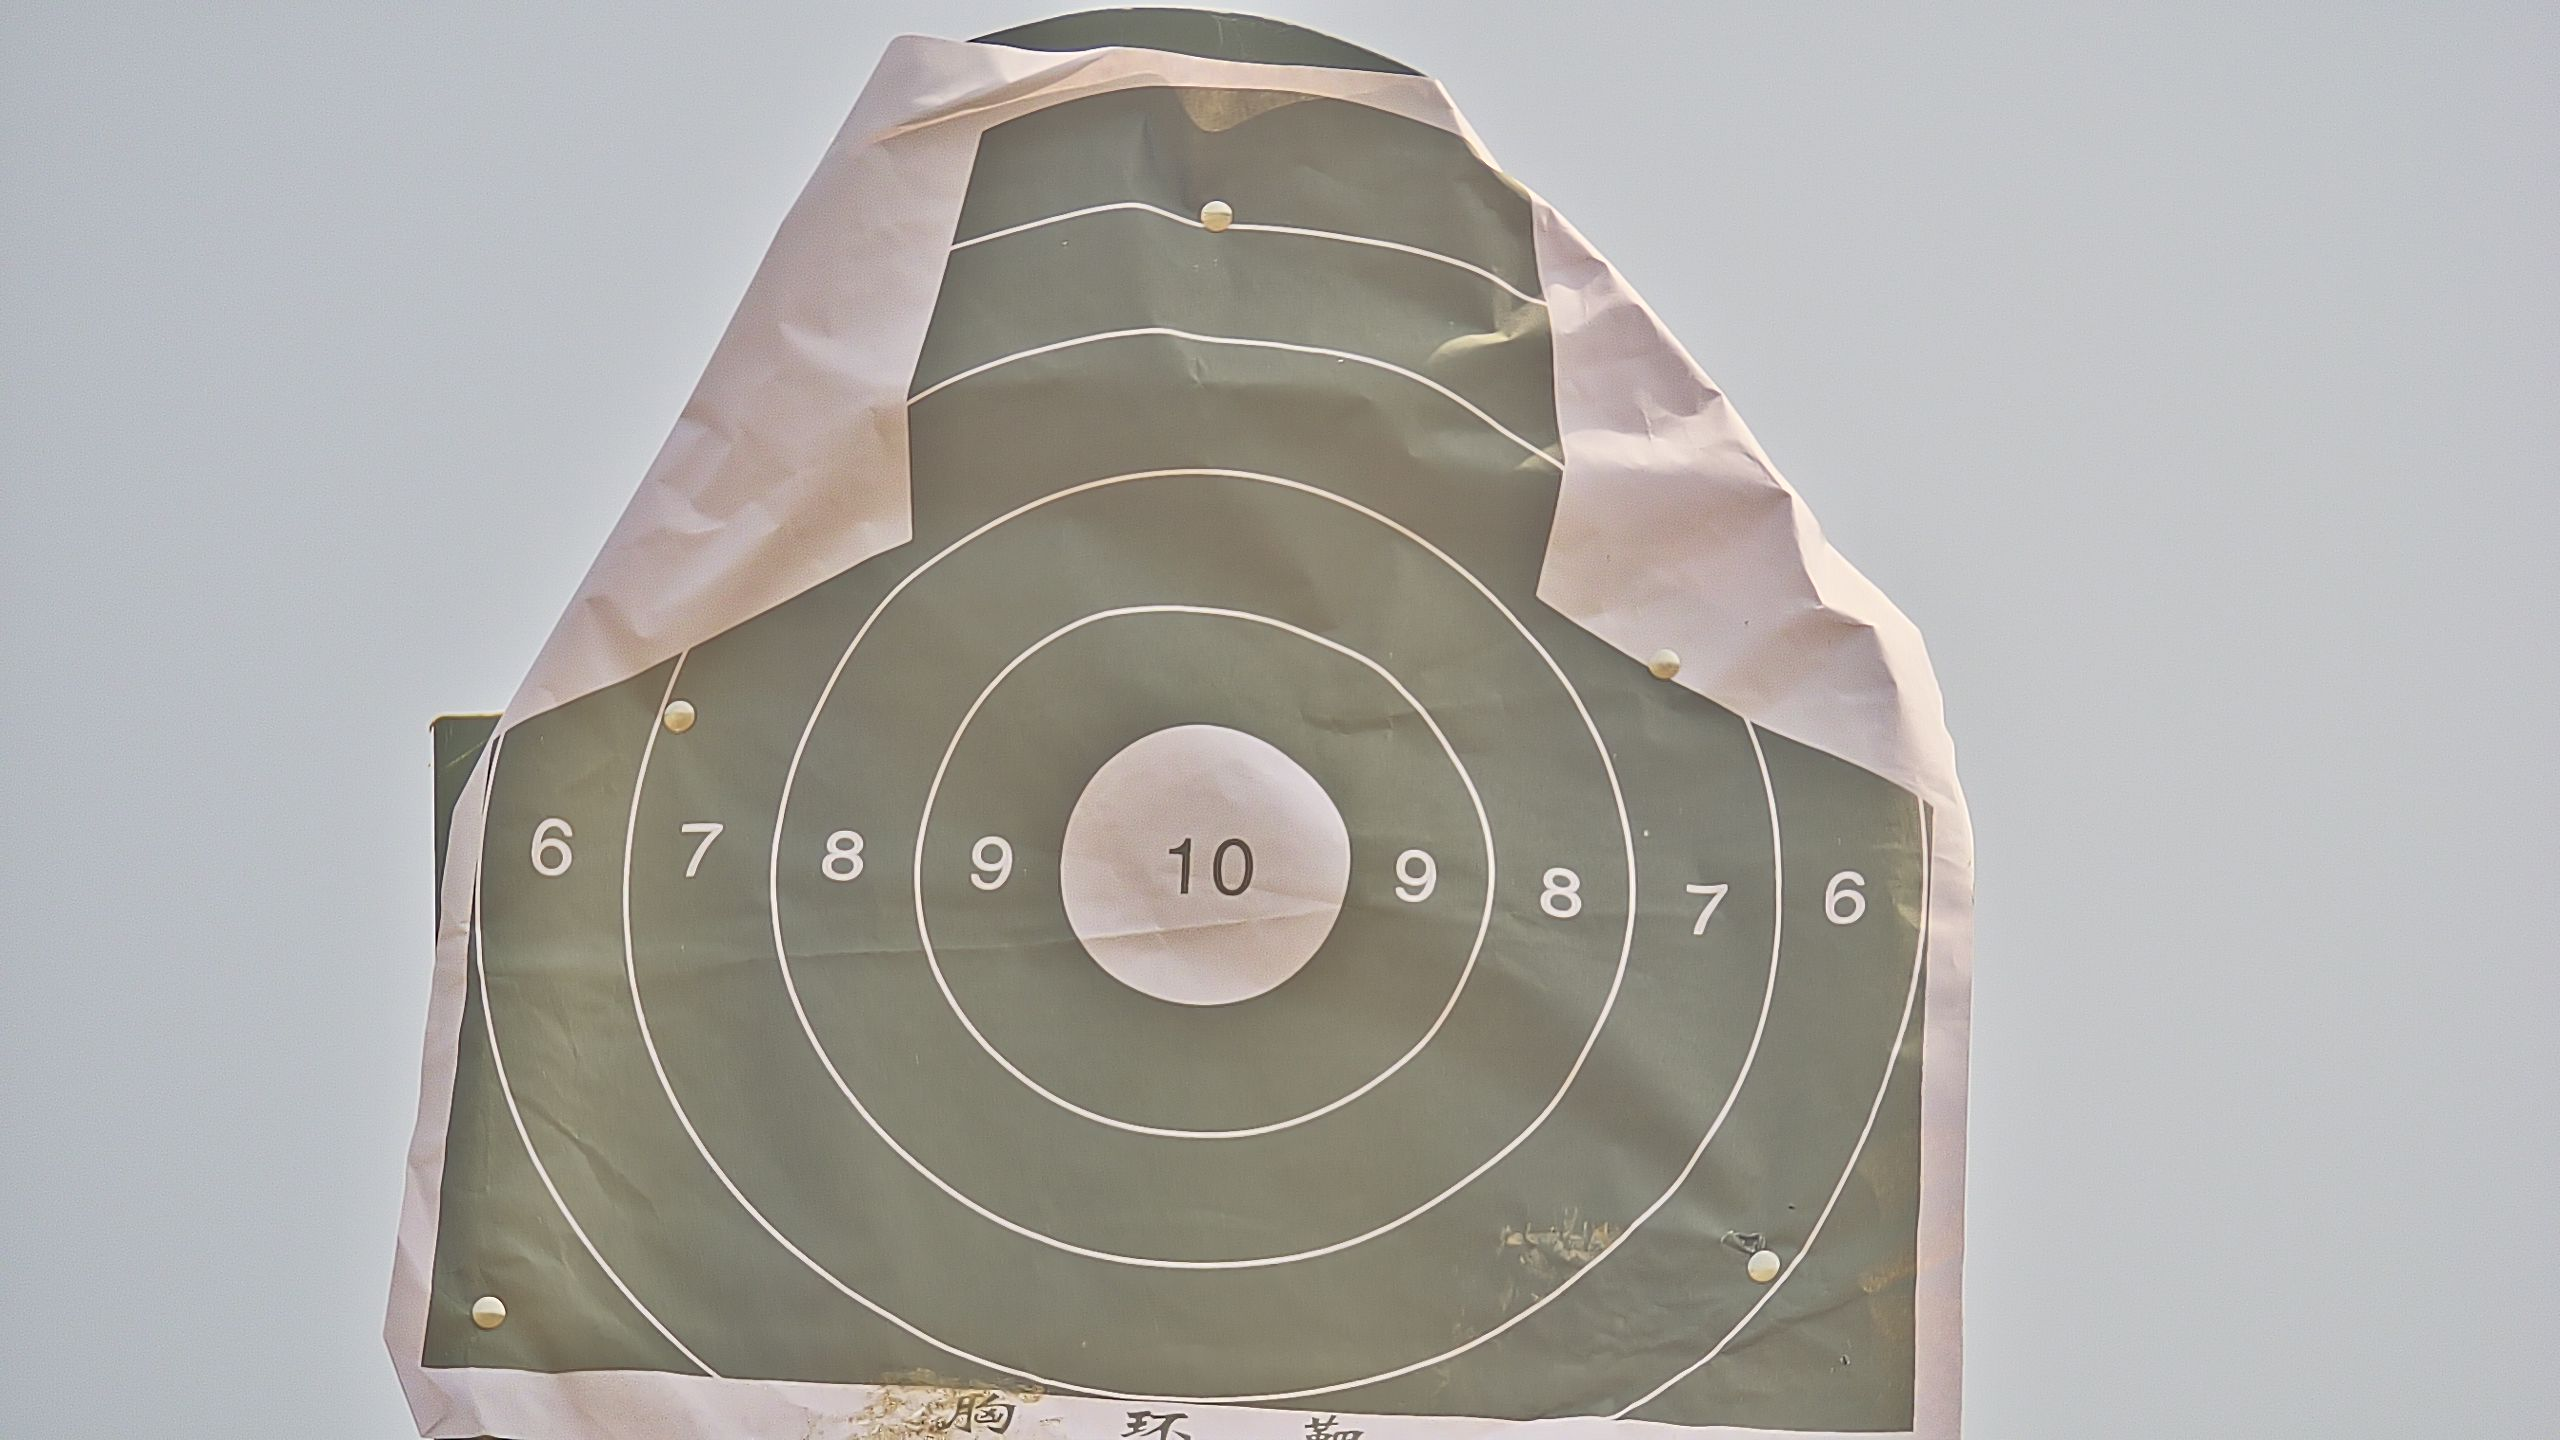kernel: (1197, 863, 1204, 870)
target: (417, 93, 1929, 1440)
ten: (1058, 724, 1354, 1009)
